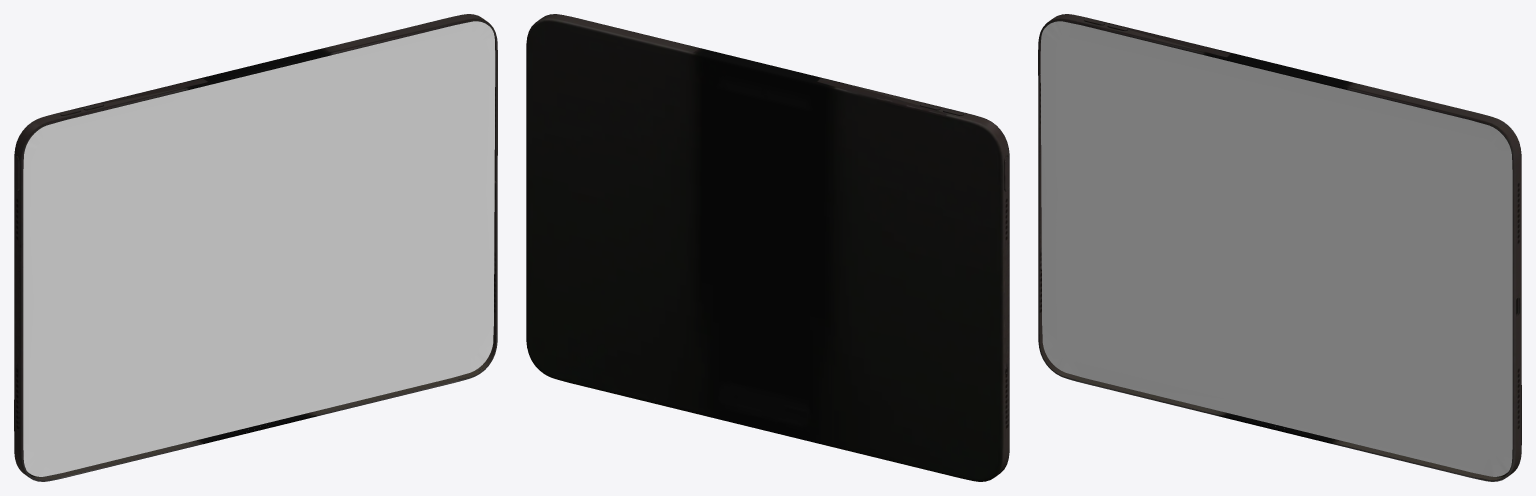
3 views of the same model, side by side, from view 1: azimuth 30°, elevation 25°; view 2: azimuth 150°, elevation 25°; view 3: azimuth 330°, elevation 25° (orthographic).
Parts seen in each view (by area): view 1: screen, tablet; view 2: tablet; view 3: screen, tablet.
Part boxes in pixels (<box>): screen: <box>23,21,495,476</box>; tablet: <box>14,14,497,481</box>; tablet: <box>526,14,1009,481</box>; screen: <box>1040,21,1512,476</box>; tablet: <box>1038,14,1521,481</box>.
Bounding box in the file's own units: 0.2227 × 0.1609 × 0.00641.
2 materials, 1 textured.
